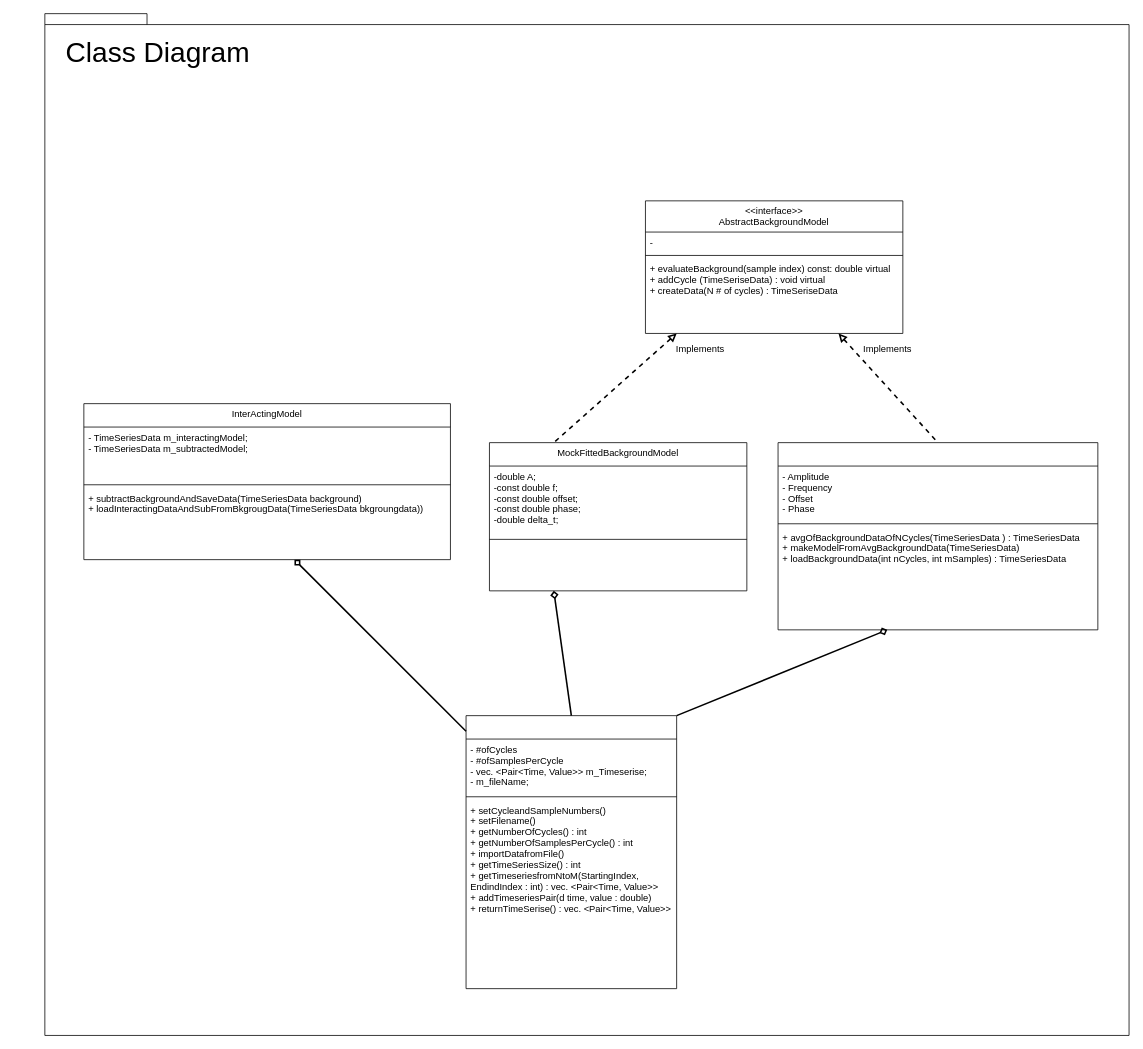
The diagram is 1143 pixels wide and 1049 high, and some of its shapes have lost their labels. Here are the shapes that lost their labels. From the top down, the box of each, then its label:
(777, 442, 1098, 630): FittedBackgroundModel
(465, 715, 677, 989): TimeSeriseData
